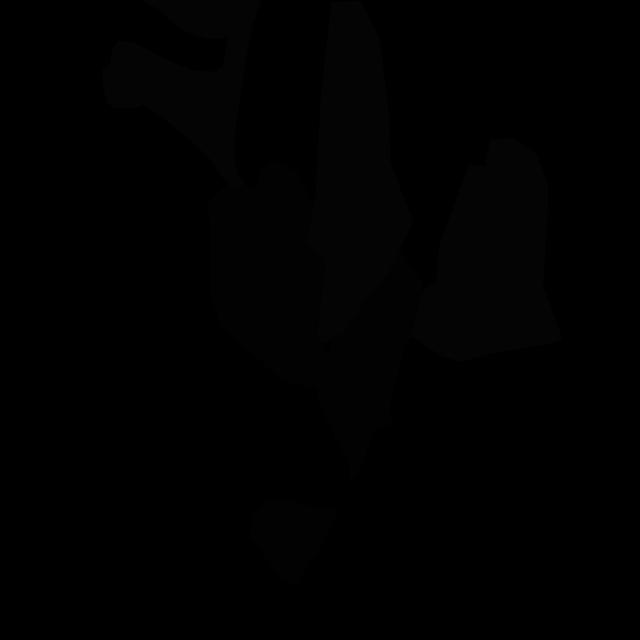cardboard: (208, 159, 330, 388), (316, 248, 424, 485), (250, 497, 340, 587)
soft_plastic: (306, 0, 414, 344), (411, 138, 562, 362), (102, 41, 230, 188), (217, 0, 261, 189), (142, 0, 242, 39)
